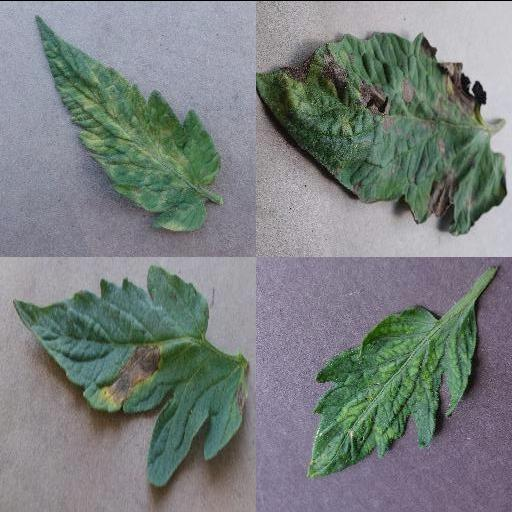Early Blight: (8, 261, 252, 485), (256, 31, 512, 235)
Leaf Mold: (33, 14, 221, 232)
Mosaic Virus: (303, 301, 477, 479)
